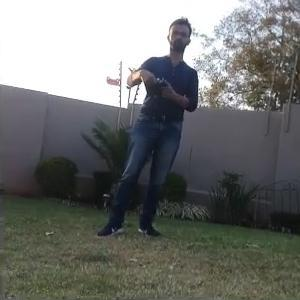follow: (91, 12, 202, 242)
